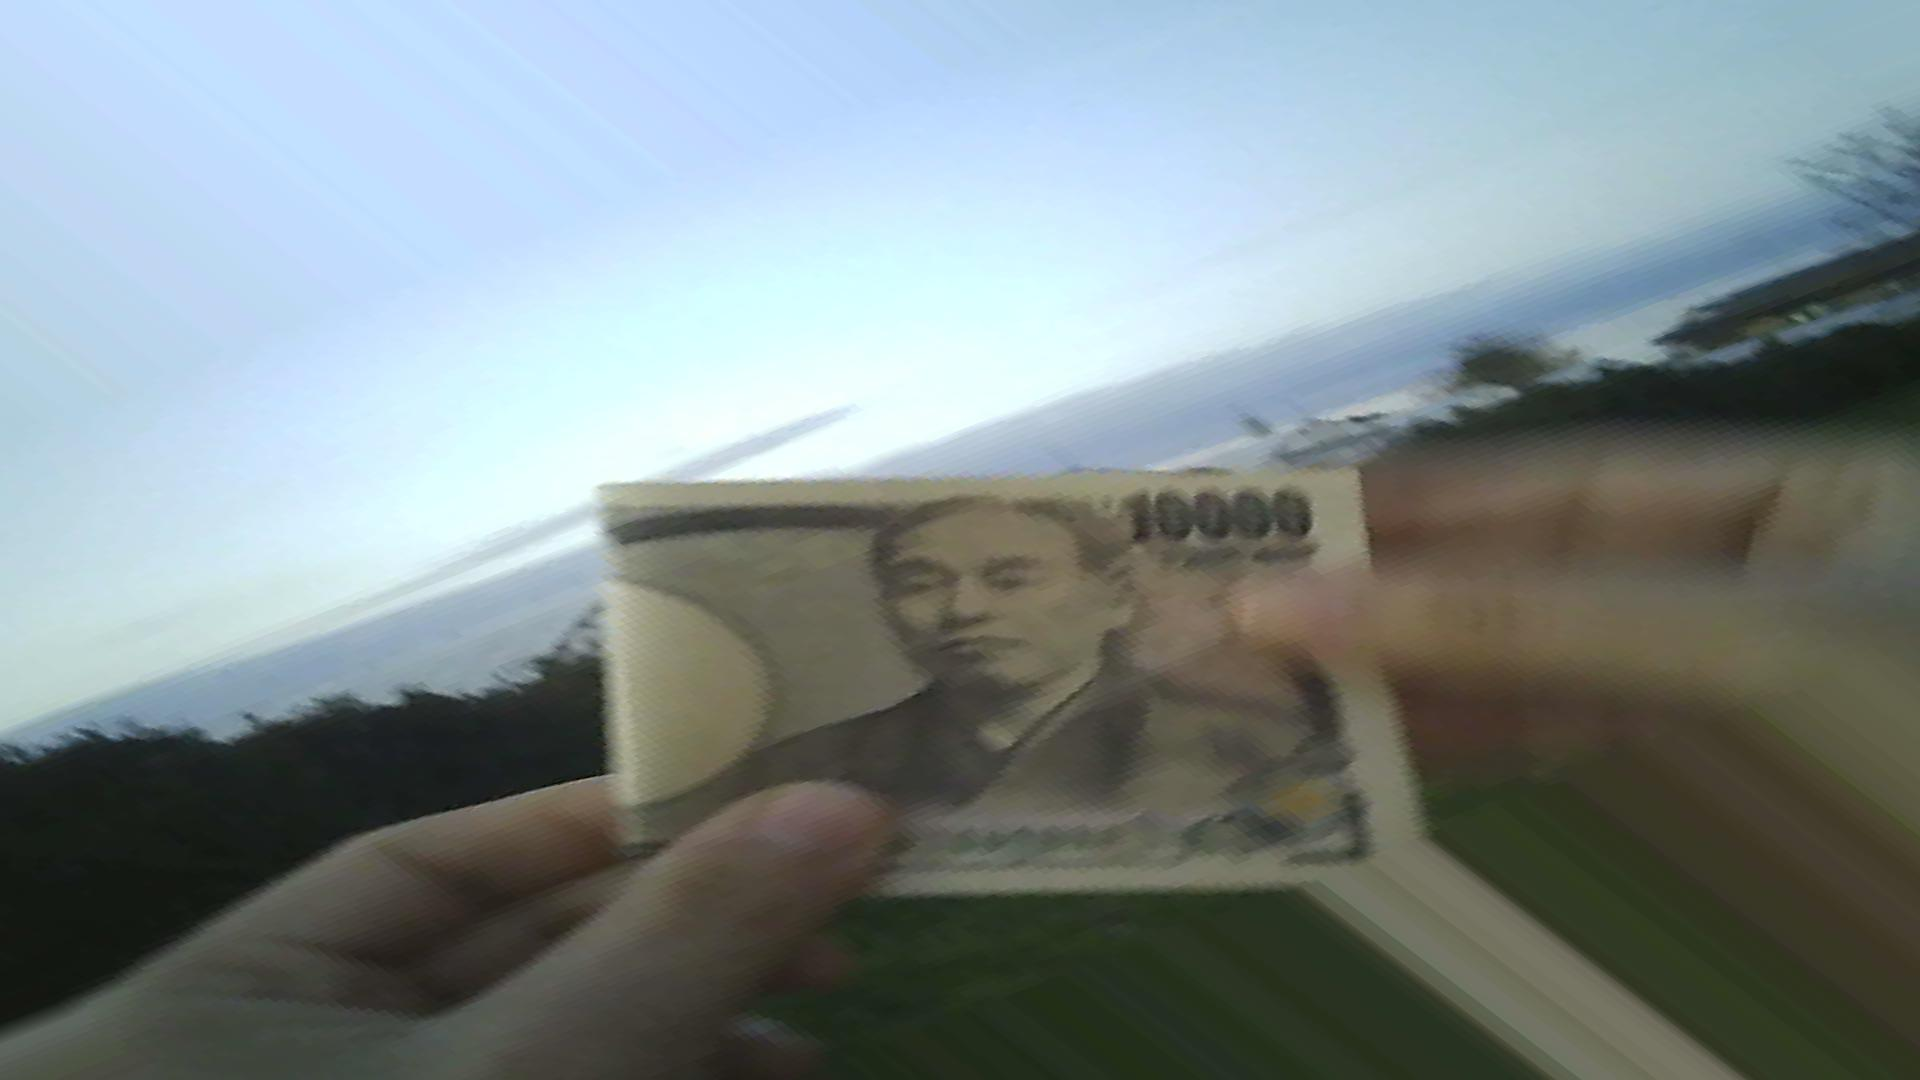10,000 Yen: (579, 451, 1424, 895)
